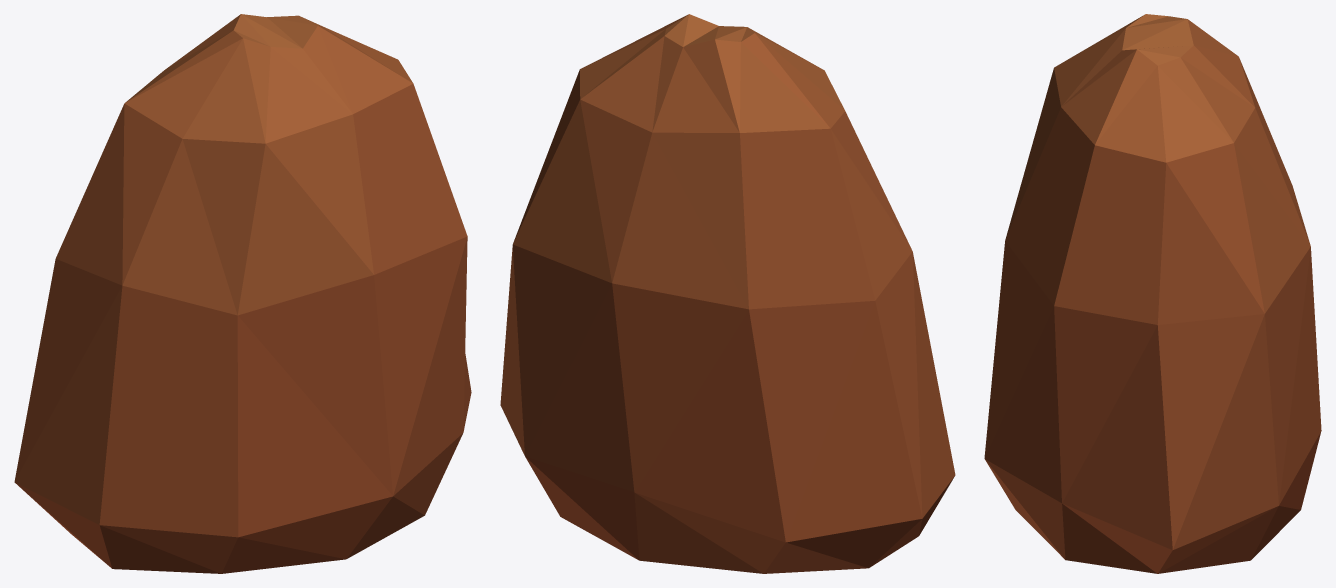
Rendered from CliffChunk.fbx.
The picture shows the model from 3 angles, left to right: view 1: azimuth 30°, elevation 25°; view 2: azimuth 150°, elevation 25°; view 3: azimuth 270°, elevation 25°; orthographic projection.
Parts seen in each view (by area): view 1: CliffChunk; view 2: CliffChunk; view 3: CliffChunk.
Boxes of the visible parts, x1,y1,x2,y2 form: CliffChunk: (14,14,471,573); CliffChunk: (500,14,955,573); CliffChunk: (984,14,1321,573).
Size of the model in its own units: 4.27 by 4.5 by 2.86.
